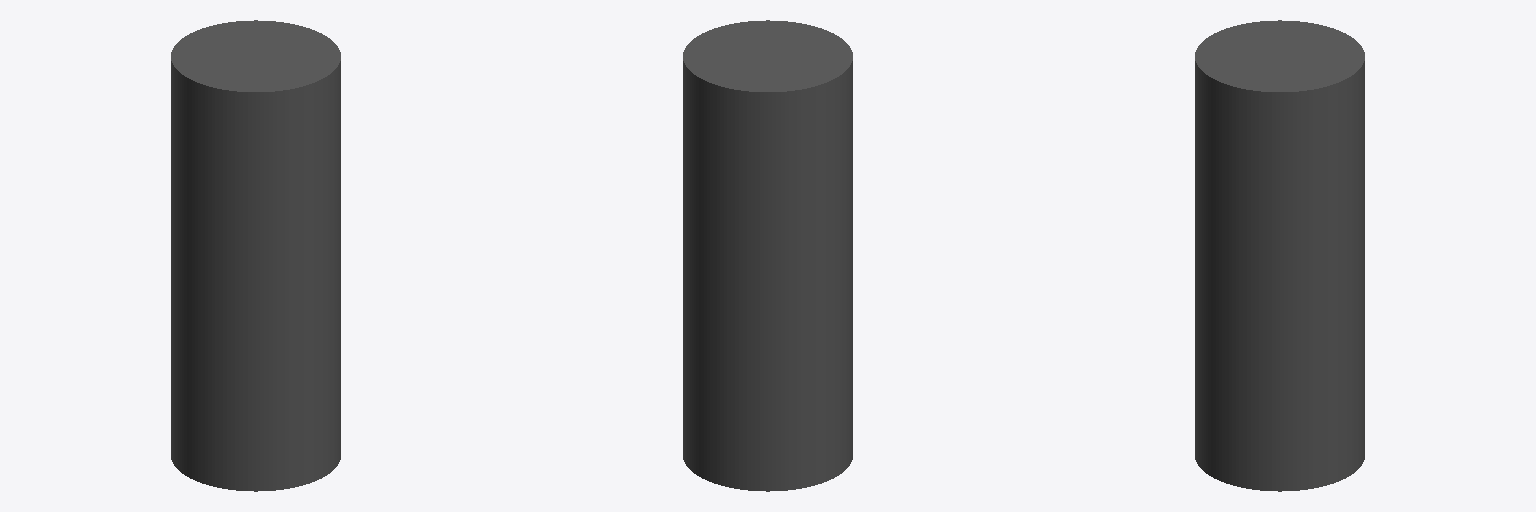
URDF robot description (iiwa14):
<?xml version="1.0" encoding="utf-8"?>
<!-- =================================================================================== -->
<!-- |    This document was autogenerated by xacro from src/iiwa_description/urdf/iiwa14.urdf.xacro | -->
<!-- |    EDITING THIS FILE BY HAND IS NOT RECOMMENDED                                 | -->
<!-- =================================================================================== -->
<robot name="iiwa14">
  <material name="Black">
    <color rgba="0.0 0.0 0.0 1.0"/>
  </material>
  <material name="Blue">
    <color rgba="0.0 0.0 0.8 1.0"/>
  </material>
  <material name="Green">
    <color rgba="0.0 0.8 0.0 1.0"/>
  </material>
  <material name="Grey">
    <color rgba="0.4 0.4 0.4 1.0"/>
  </material>
  <material name="Orange">
    <color rgba="1.0 0.423529411765 0.0392156862745 1.0"/>
  </material>
  <material name="Brown">
    <color rgba="0.870588235294 0.811764705882 0.764705882353 1.0"/>
  </material>
  <material name="Red">
    <color rgba="0.8 0.0 0.0 1.0"/>
  </material>
  <material name="White">
    <color rgba="1.0 1.0 1.0 1.0"/>
  </material>
  <!-- Fix to world just for testing -->
  <link name="world"/>
  <!--joint between {parent} and link_0-->
  <joint name="world_iiwa_joint" type="fixed">
    <origin rpy="0 0 0" xyz="0 0 0"/>
    <parent link="world"/>
    <child link="iiwa_link_0"/>
  </joint>
  <link name="iiwa_link_0">
    <inertial>
      <origin rpy="0 0 0" xyz="-0.1 0 0.07"/>
      <mass value="5"/>
      <inertia ixx="0.05" ixy="0" ixz="0" iyy="0.06" iyz="0" izz="0.03"/>
    </inertial>
    <visual>
      <origin rpy="0 0 0" xyz="0 0 0"/>
      <geometry>
        <mesh filename="package://iiwa_description/meshes/iiwa14/visual/link_0.stl"/>
      </geometry>
      <material name="Grey"/>
    </visual>
    <collision>
      <origin rpy="0 0 0" xyz="0 0 0"/>
      <geometry>
        <mesh filename="package://iiwa_description/meshes/iiwa14/collision/link_0.stl"/>
      </geometry>
      <material name="Grey"/>
    </collision>
    <self_collision_checking>
      <origin rpy="0 0 0" xyz="0 0 0"/>
      <geometry>
        <capsule length="0.25" radius="0.15"/>
      </geometry>
    </self_collision_checking>
  </link>
  <!-- joint between link_0 and link_1 -->
  <joint name="iiwa_joint_1" type="revolute">
    <parent link="iiwa_link_0"/>
    <child link="iiwa_link_1"/>
    <origin rpy="0 0 0" xyz="0 0 0.1575"/>
    <axis xyz="0 0 1"/>
    <limit effort="300" lower="-2.96705972839" upper="2.96705972839" velocity="10"/>
    <safety_controller k_position="100" k_velocity="2" soft_lower_limit="-2.93215314335" soft_upper_limit="2.93215314335"/>
    <dynamics damping="0.5"/>
  </joint>
  <link name="iiwa_link_1">
    <inertial>
      <origin rpy="0 0 0" xyz="0 -0.03 0.12"/>
      <mass value="4"/>
      <inertia ixx="0.1" ixy="0" ixz="0" iyy="0.09" iyz="0" izz="0.02"/>
    </inertial>
    <visual>
      <origin rpy="0 0 0" xyz="0 0 0"/>
      <geometry>
        <mesh filename="package://iiwa_description/meshes/iiwa14/visual/link_1.stl"/>
      </geometry>
      <material name="Orange"/>
    </visual>
    <collision>
      <origin rpy="0 0 0" xyz="0 0 0"/>
      <geometry>
        <mesh filename="package://iiwa_description/meshes/iiwa14/collision/link_1.stl"/>
      </geometry>
      <material name="Orange"/>
    </collision>
  </link>
  <!-- joint between link_1 and link_2 -->
  <joint name="iiwa_joint_2" type="revolute">
    <parent link="iiwa_link_1"/>
    <child link="iiwa_link_2"/>
    <origin rpy="1.57079632679   0 3.14159265359" xyz="0 0 0.2025"/>
    <axis xyz="0 0 1"/>
    <limit effort="300" lower="-2.09439510239" upper="2.09439510239" velocity="10"/>
    <safety_controller k_position="100" k_velocity="2" soft_lower_limit="-2.05948851735" soft_upper_limit="2.05948851735"/>
    <dynamics damping="0.5"/>
  </joint>
  <link name="iiwa_link_2">
    <inertial>
      <origin rpy="0 0 0" xyz="0.0003 0.059 0.042"/>
      <mass value="4"/>
      <inertia ixx="0.05" ixy="0" ixz="0" iyy="0.018" iyz="0" izz="0.044"/>
    </inertial>
    <visual>
      <origin rpy="0 0 0" xyz="0 0 0"/>
      <geometry>
        <mesh filename="package://iiwa_description/meshes/iiwa14/visual/link_2.stl"/>
      </geometry>
      <material name="Orange"/>
    </visual>
    <collision>
      <origin rpy="0 0 0" xyz="0 0 0"/>
      <geometry>
        <mesh filename="package://iiwa_description/meshes/iiwa14/collision/link_2.stl"/>
      </geometry>
      <material name="Orange"/>
    </collision>
  </link>
  <!-- joint between link_2 and link_3 -->
  <joint name="iiwa_joint_3" type="revolute">
    <parent link="iiwa_link_2"/>
    <child link="iiwa_link_3"/>
    <origin rpy="1.57079632679 0 3.14159265359" xyz="0 0.2045 0"/>
    <axis xyz="0 0 1"/>
    <limit effort="300" lower="-2.96705972839" upper="2.96705972839" velocity="10"/>
    <safety_controller k_position="100" k_velocity="2" soft_lower_limit="-2.93215314335" soft_upper_limit="2.93215314335"/>
    <dynamics damping="0.5"/>
  </joint>
  <link name="iiwa_link_3">
    <inertial>
      <origin rpy="0 0 0" xyz="0 0.03 0.13"/>
      <mass value="3"/>
      <inertia ixx="0.08" ixy="0" ixz="0" iyy="0.075" iyz="0" izz="0.01"/>
    </inertial>
    <visual>
      <origin rpy="0 0 0" xyz="0 0 0"/>
      <geometry>
        <mesh filename="package://iiwa_description/meshes/iiwa14/visual/link_3.stl"/>
      </geometry>
      <material name="Orange"/>
    </visual>
    <collision>
      <origin rpy="0 0 0" xyz="0 0 0"/>
      <geometry>
        <mesh filename="package://iiwa_description/meshes/iiwa14/collision/link_3.stl"/>
      </geometry>
      <material name="Orange"/>
    </collision>
  </link>
  <!-- joint between link_3 and link_4 -->
  <joint name="iiwa_joint_4" type="revolute">
    <parent link="iiwa_link_3"/>
    <child link="iiwa_link_4"/>
    <origin rpy="1.57079632679 0 0" xyz="0 0 0.2155"/>
    <axis xyz="0 0 1"/>
    <limit effort="300" lower="-2.09439510239" upper="2.09439510239" velocity="10"/>
    <safety_controller k_position="100" k_velocity="2" soft_lower_limit="-2.05948851735" soft_upper_limit="2.05948851735"/>
    <dynamics damping="0.5"/>
  </joint>
  <link name="iiwa_link_4">
    <inertial>
      <origin rpy="0 0 0" xyz="0 0.067 0.034"/>
      <mass value="2.7"/>
      <inertia ixx="0.03" ixy="0" ixz="0" iyy="0.01" iyz="0" izz="0.029"/>
    </inertial>
    <visual>
      <origin rpy="0 0 0" xyz="0 0 0"/>
      <geometry>
        <mesh filename="package://iiwa_description/meshes/iiwa14/visual/link_4.stl"/>
      </geometry>
      <material name="Orange"/>
    </visual>
    <collision>
      <origin rpy="0 0 0" xyz="0 0 0"/>
      <geometry>
        <mesh filename="package://iiwa_description/meshes/iiwa14/collision/link_4.stl"/>
      </geometry>
      <material name="Orange"/>
    </collision>
  </link>
  <!-- joint between link_4 and link_5 -->
  <joint name="iiwa_joint_5" type="revolute">
    <parent link="iiwa_link_4"/>
    <child link="iiwa_link_5"/>
    <origin rpy="-1.57079632679 3.14159265359 0" xyz="0 0.1845 0"/>
    <axis xyz="0 0 1"/>
    <limit effort="300" lower="-2.96705972839" upper="2.96705972839" velocity="10"/>
    <safety_controller k_position="100" k_velocity="2" soft_lower_limit="-2.93215314335" soft_upper_limit="2.93215314335"/>
    <dynamics damping="0.5"/>
  </joint>
  <link name="iiwa_link_5">
    <inertial>
      <origin rpy="0 0 0" xyz="0.0001 0.021 0.076"/>
      <mass value="1.7"/>
      <inertia ixx="0.02" ixy="0" ixz="0" iyy="0.018" iyz="0" izz="0.005"/>
    </inertial>
    <visual>
      <origin rpy="0 0 0" xyz="0 0 0"/>
      <geometry>
        <mesh filename="package://iiwa_description/meshes/iiwa14/visual/link_5.stl"/>
      </geometry>
      <material name="Orange"/>
    </visual>
    <collision>
      <origin rpy="0 0 0" xyz="0 0 0"/>
      <geometry>
        <mesh filename="package://iiwa_description/meshes/iiwa14/collision/link_5.stl"/>
      </geometry>
      <material name="Orange"/>
    </collision>
  </link>
  <!-- joint between link_5 and link_6 -->
  <joint name="iiwa_joint_6" type="revolute">
    <parent link="iiwa_link_5"/>
    <child link="iiwa_link_6"/>
    <origin rpy="1.57079632679 0 0" xyz="0 0 0.2155"/>
    <axis xyz="0 0 1"/>
    <limit effort="300" lower="-2.09439510239" upper="2.09439510239" velocity="10"/>
    <safety_controller k_position="100" k_velocity="2" soft_lower_limit="-2.05948851735" soft_upper_limit="2.05948851735"/>
    <dynamics damping="0.5"/>
  </joint>
  <link name="iiwa_link_6">
    <inertial>
      <origin rpy="0 0 0" xyz="0 0.0006 0.0004"/>
      <mass value="1.8"/>
      <inertia ixx="0.005" ixy="0" ixz="0" iyy="0.0036" iyz="0" izz="0.0047"/>
    </inertial>
    <visual>
      <origin rpy="0 0 0" xyz="0 0 0"/>
      <geometry>
        <mesh filename="package://iiwa_description/meshes/iiwa14/visual/link_6.stl"/>
      </geometry>
      <material name="Orange"/>
    </visual>
    <collision>
      <origin rpy="0 0 0" xyz="0 0 0"/>
      <geometry>
        <mesh filename="package://iiwa_description/meshes/iiwa14/collision/link_6.stl"/>
      </geometry>
      <material name="Orange"/>
    </collision>
  </link>
  <!-- joint between link_6 and link_7 -->
  <joint name="iiwa_joint_7" type="revolute">
    <parent link="iiwa_link_6"/>
    <child link="iiwa_link_7"/>
    <origin rpy="-1.57079632679 3.14159265359 0" xyz="0 0.081 0"/>
    <axis xyz="0 0 1"/>
    <limit effort="300" lower="-3.05432619099" upper="3.05432619099" velocity="10"/>
    <safety_controller k_position="100" k_velocity="2" soft_lower_limit="-3.01941960595" soft_upper_limit="3.01941960595"/>
    <dynamics damping="0.5"/>
  </joint>
  <link name="iiwa_link_7">
    <inertial>
      <origin rpy="0 0 0" xyz="0 0 0.02"/>
      <mass value="0.3"/>
      <inertia ixx="0.001" ixy="0" ixz="0" iyy="0.001" iyz="0" izz="0.001"/>
    </inertial>
    <visual>
      <origin rpy="0 0 0" xyz="0 0 0"/>
      <geometry>
        <mesh filename="package://iiwa_description/meshes/iiwa14/visual/link_7.stl"/>
      </geometry>
      <material name="Grey"/>
    </visual>
    <collision>
      <origin rpy="0 0 0" xyz="0 0 0"/>
      <geometry>
        <mesh filename="package://iiwa_description/meshes/iiwa14/collision/link_7.stl"/>
      </geometry>
      <material name="Grey"/>
    </collision>
  </link>
  <joint name="iiwa_joint_ee" type="fixed">
    <parent link="iiwa_link_7"/>
    <child link="iiwa_link_ee"/>
    <origin rpy="0 0 0" xyz="0 0 0.045"/>
  </joint>
  <link name="iiwa_link_ee">
    </link>
    
  <joint name="object_joint" type="fixed">
        <origin rpy="0 0 0" xyz="0 0 0.001"/>
        <parent link="iiwa_link_ee"/>
        <child link="object_link"/>
    </joint>
  
    <link name="object_link">
        <visual>
            <origin rpy="0 0 0" xyz="0 0 0"/>
            <geometry>
                <mesh filename="package://iiwa_description/meshes/cylindrical_peg_290.stl" scale="0.001 0.001 0.001"/>
            </geometry>
            <material name="Grey"/>
        </visual>
        <collision>
            <origin rpy="0 0 0" xyz="0 0 0"/>
            <geometry>
                <mesh filename="package://iiwa_description/meshes/cylindrical_peg_290.stl" scale="0.001 0.001 0.001"/>
            </geometry>
            <material name="Grey"/>
        </collision>
    </link>

</robot>

--- What the picture shows (computed from the rendered views, not written in the file) ---
The picture shows the robot from 3 angles, left to right: view 1: azimuth 30°, elevation 25°; view 2: azimuth 150°, elevation 25°; view 3: azimuth 270°, elevation 25°; orthographic projection.
Model iiwa14 with 11 links and 10 joints (7 revolute, 3 fixed), rooted at world, posed all joints at 0.
Visible links, largest first — view 1: object_link; view 2: object_link; view 3: object_link.
Boxes of the visible links, left/top/right/bottom form: object_link: left=171, top=20, right=340, bottom=491; object_link: left=683, top=20, right=852, bottom=491; object_link: left=1195, top=20, right=1364, bottom=491.
Bounding box of the posed robot: 0.058 × 0.058 × 0.15 m (x, y, z).
Meshes: 9 distinct files referenced, 1 mesh visuals loaded (1 binary STL); not drawn: 8 (reference not matched to a file when rendering).